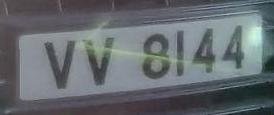1: (168, 24, 196, 83)
4: (185, 22, 222, 81), (218, 19, 251, 74)
8: (139, 26, 175, 86)
V: (38, 34, 82, 95), (79, 30, 119, 91)
